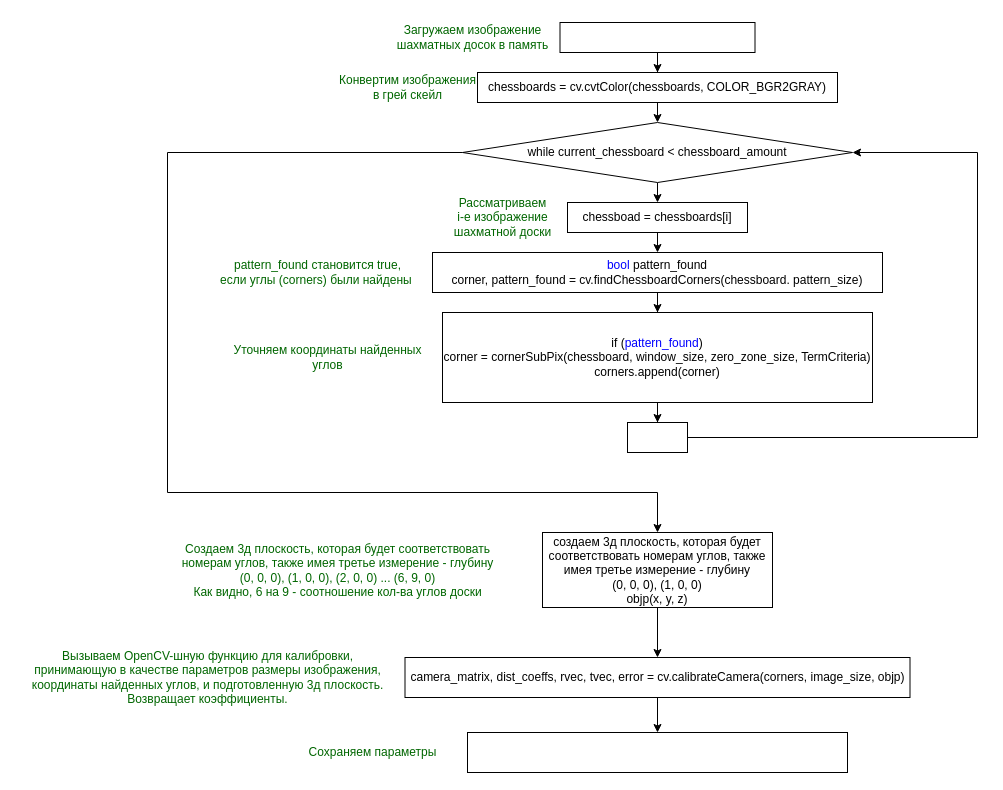
Some shapes in this 1003 by 790 pixel diagram are drawn without their labels. Each missing label, with the centre of its shape:
chessboards = LoadImages(path): point 657,37
i += 1: point 657,437
SaveFoundParameters(camera_matrix, dist_coeffs, rvec, tvec): point 657,752
